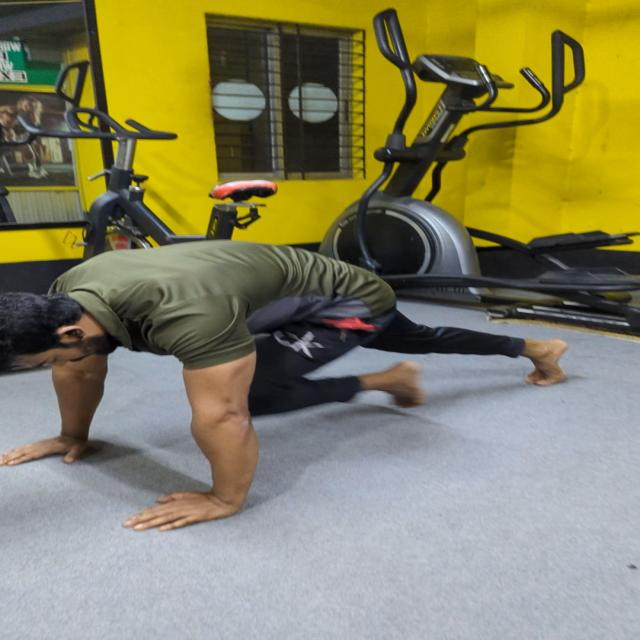Normal_MountainClimbers: (0, 224, 640, 564)
